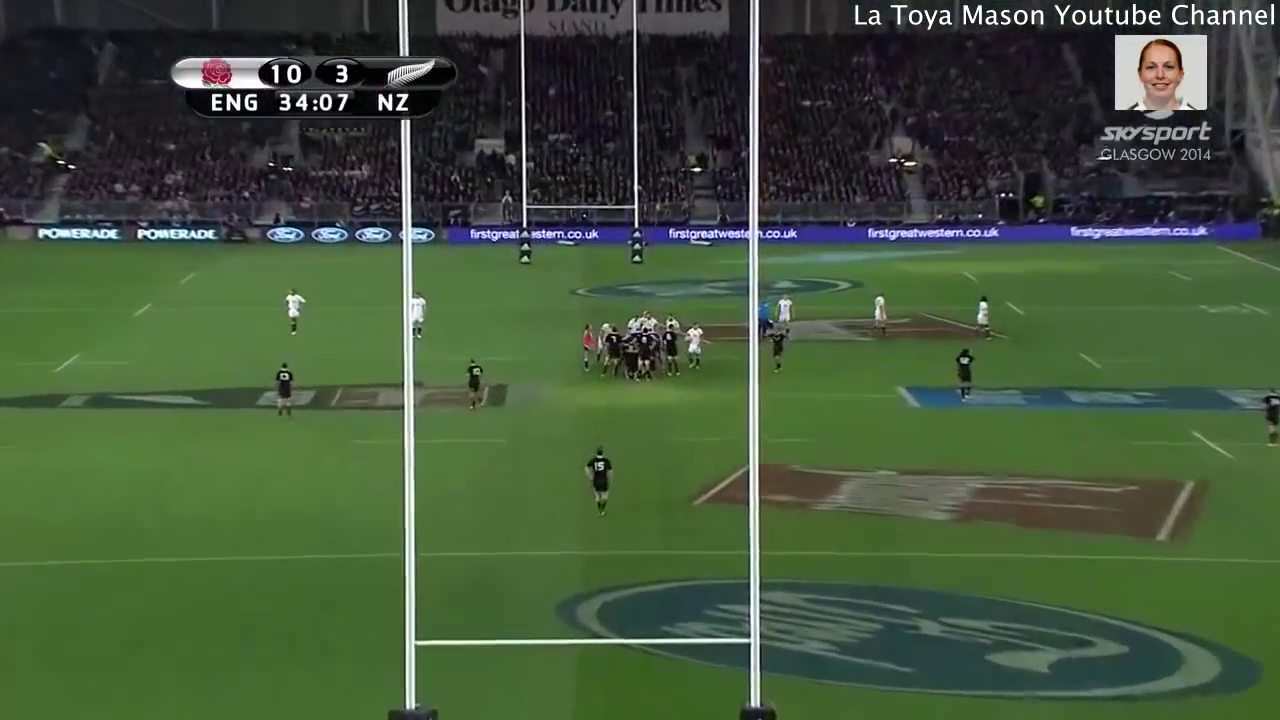ball: (683, 333, 692, 344)
player: (577, 439, 623, 526), (279, 284, 309, 341), (682, 322, 712, 379), (461, 357, 487, 422), (273, 360, 300, 419), (953, 339, 978, 402), (1257, 380, 1280, 448), (632, 325, 657, 382), (661, 324, 684, 379), (869, 292, 893, 338), (770, 325, 792, 373), (602, 325, 623, 375), (971, 292, 993, 339), (413, 287, 429, 340), (578, 323, 595, 372), (594, 319, 611, 367), (777, 294, 801, 326), (636, 308, 658, 336), (663, 310, 679, 332), (626, 314, 640, 332)
post: (370, 1, 775, 720), (512, 1, 649, 269)
